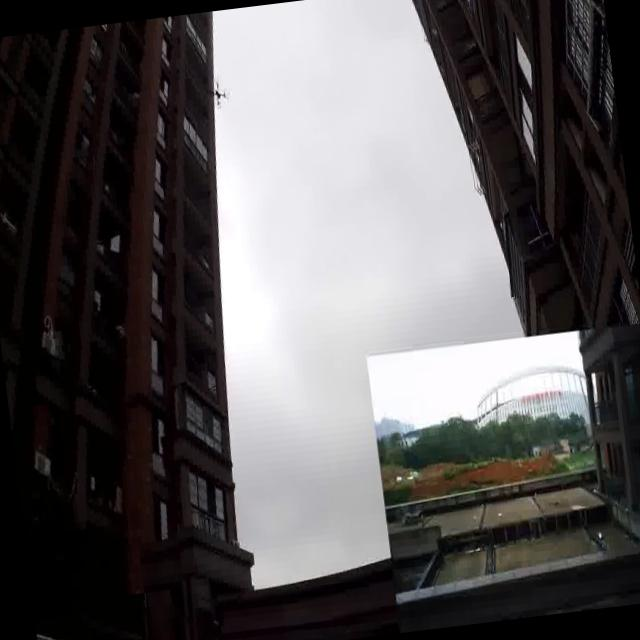drone: (206, 76, 233, 110)
